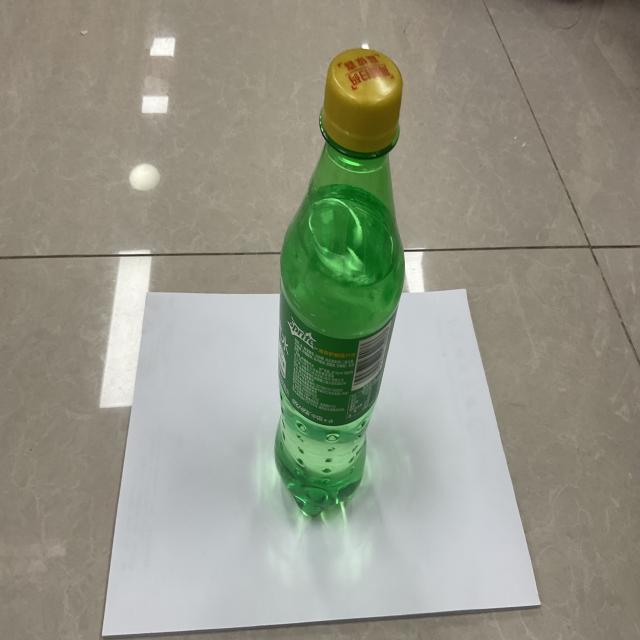chai: (275, 49, 404, 516)
